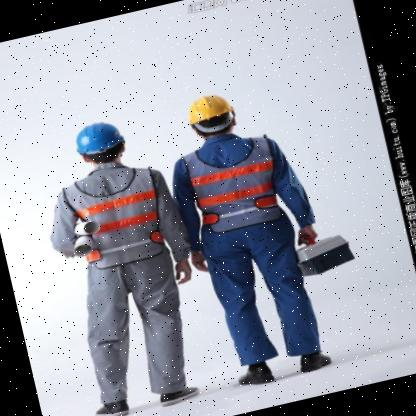bota: (232, 356, 280, 391), (292, 348, 336, 376)
capacete: (68, 114, 132, 162), (182, 88, 242, 129)
